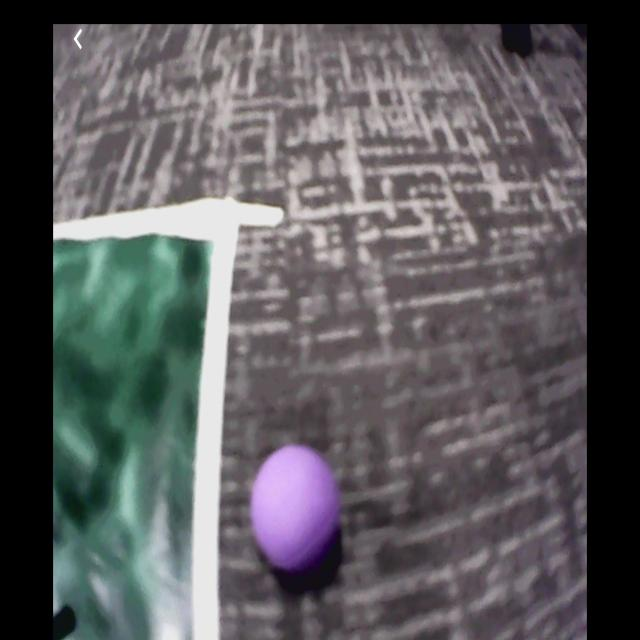ball: (250, 443, 344, 583)
